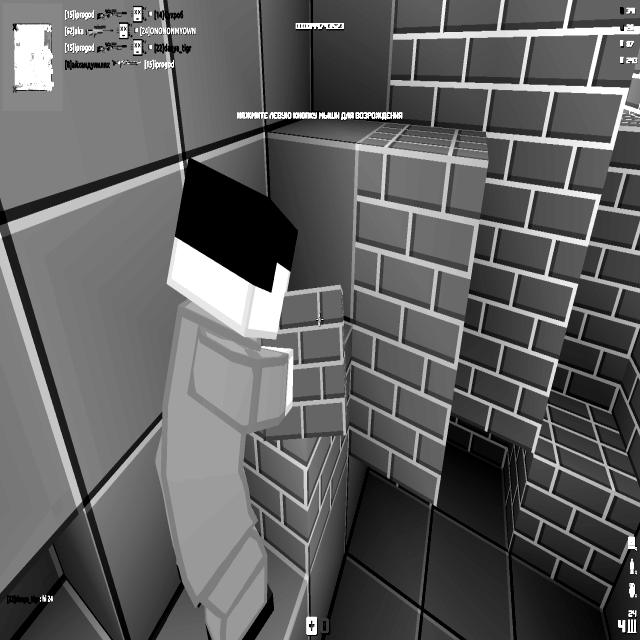Head: (166, 155, 298, 341)
Player: (154, 155, 298, 638)
